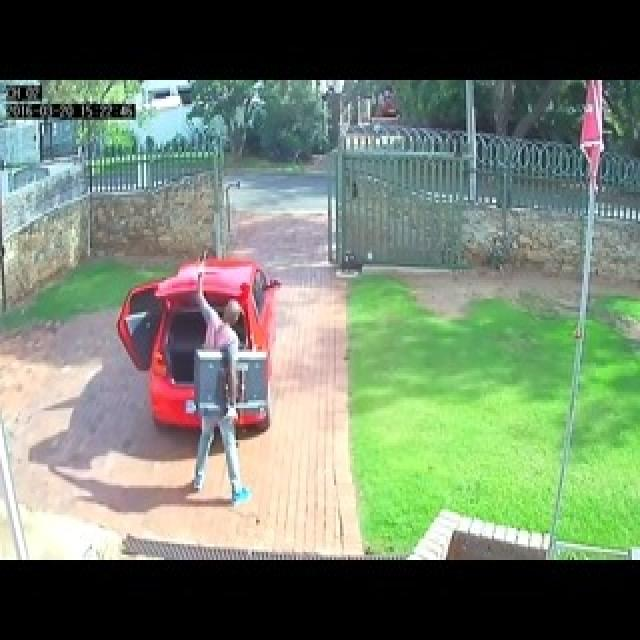thief: (183, 266, 250, 435)
